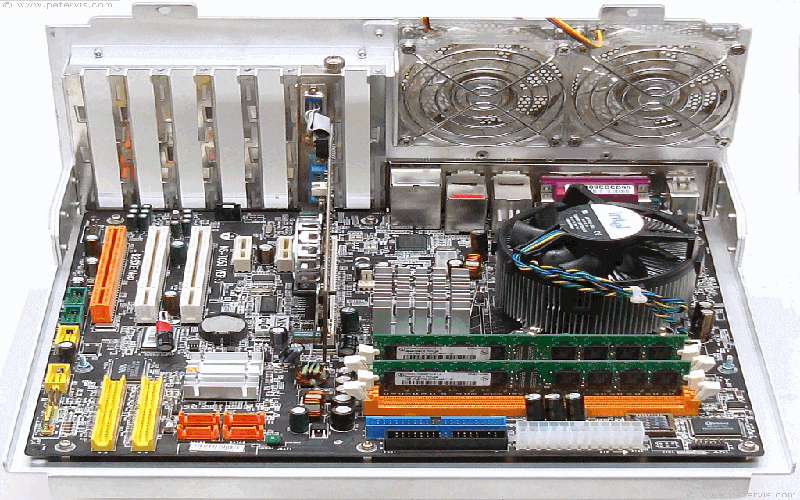Cirtuit-Board: (23, 159, 766, 471)
